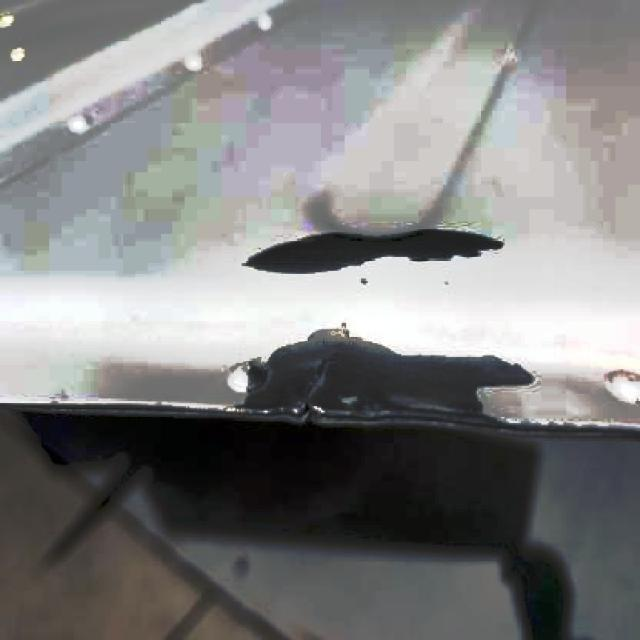crack: (302, 350, 332, 408)
